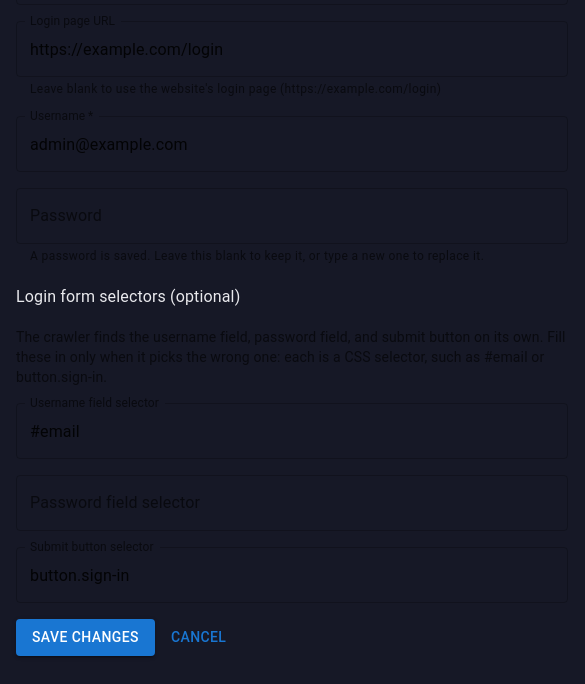
it: CredentialEditPage › shows the server's error and stays on the form when the save is rejected
(page scrolled)
Click the button "Save changes" at (85, 638), box left=16, top=619, right=155, bottom=656
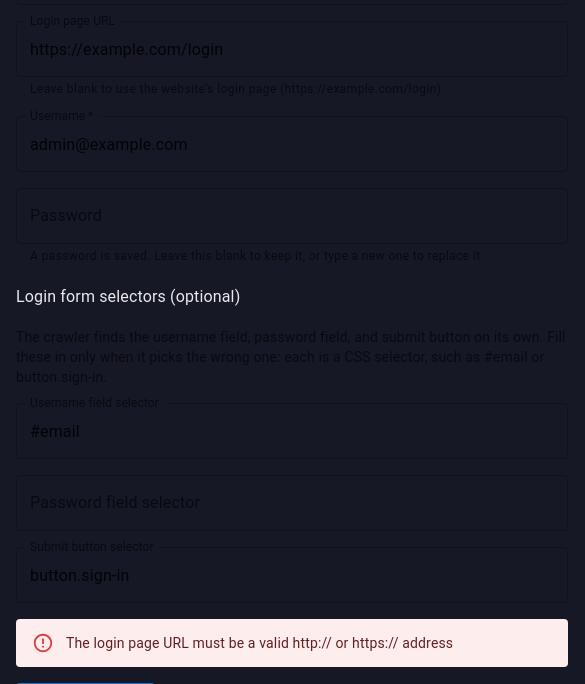
Now the message reads "The login page URL must be a valid http:// or https:// address", box left=66, top=635, right=453, bottom=651
